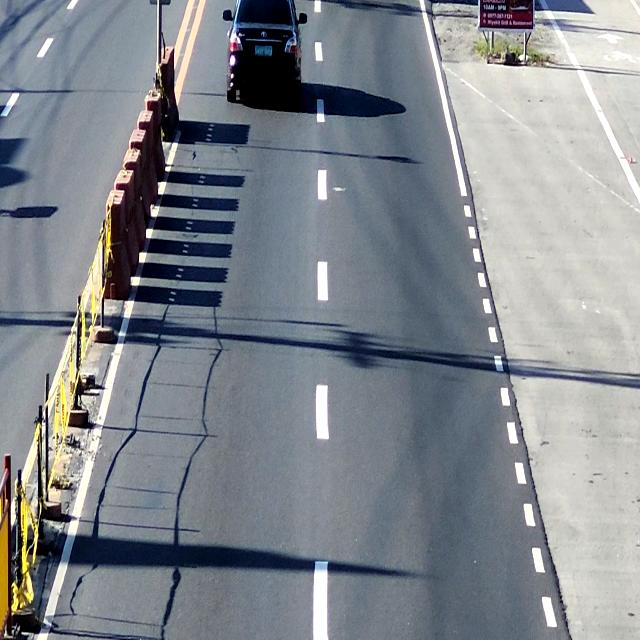Car: (230, 0, 306, 109)
